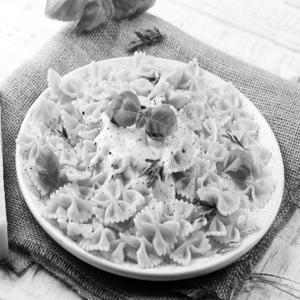pasta: (39, 68, 254, 263)
